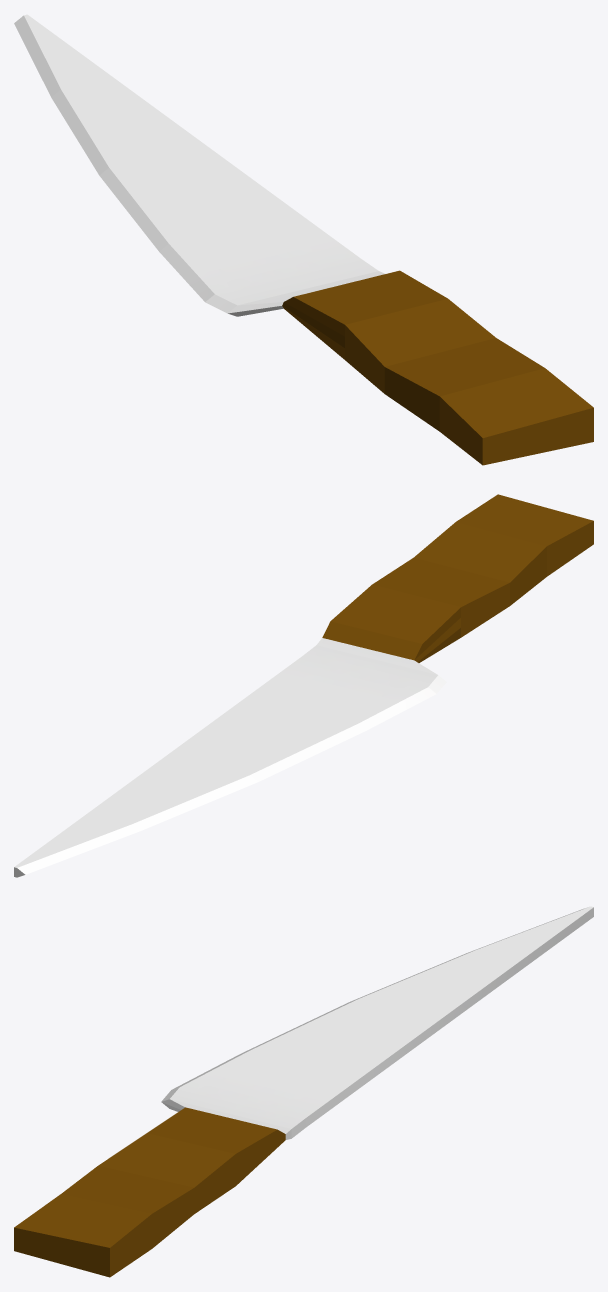
File: Knife_01.fbx
3 views of the same model, one above another, from view 1: azimuth 30°, elevation 25°; view 2: azimuth 150°, elevation 25°; view 3: azimuth 330°, elevation 25° (orthographic). The views are drawn at different scales.
Parts seen in each view (by area): view 1: Knife_01; view 2: Knife_01; view 3: Knife_01.
Part boxes in pixels (x1,y1,x2,y2): Knife_01: (14,14,593,465); Knife_01: (14,494,593,877); Knife_01: (14,906,593,1277).
Size of the model in its own units: 3.28 by 0.8033 by 20.17.
